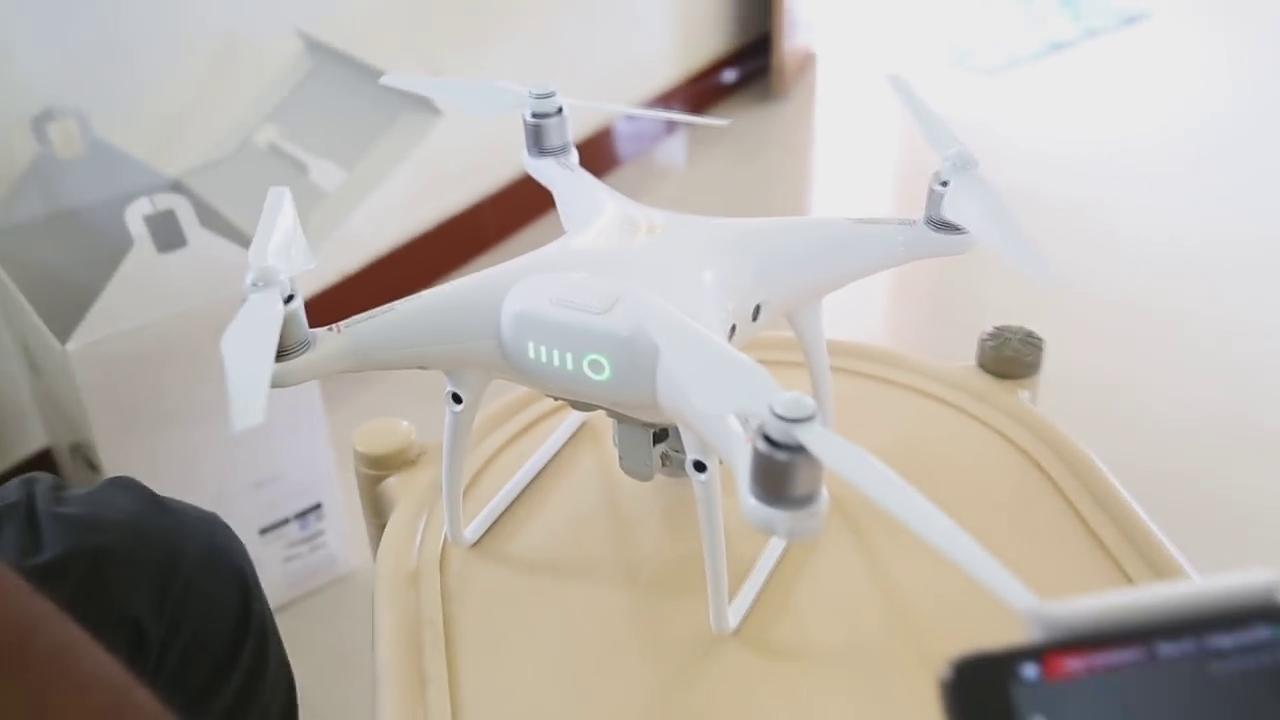drone: (198, 48, 1113, 620)
